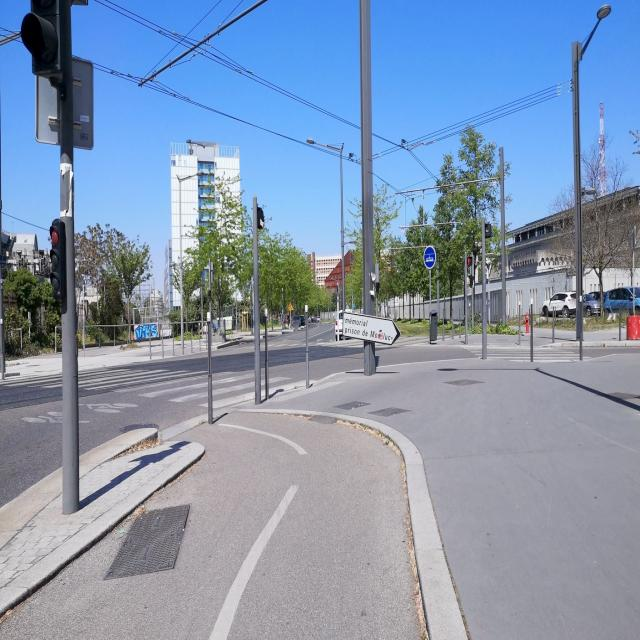car: (602, 285, 638, 315), (542, 291, 577, 317), (580, 290, 603, 315)
